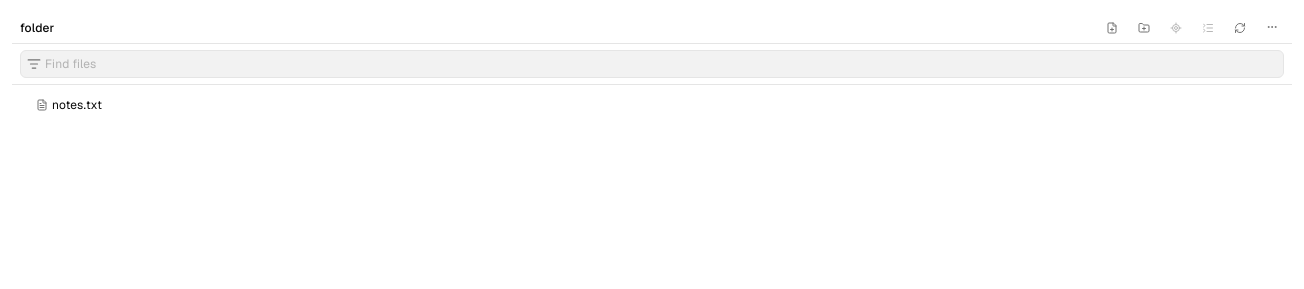
Test: duplicate row (#334) › fails closed with an inline error when the bridge lacks files.duplicate
The image size is (1304, 289).
Right-click the button "notes.txt" at (77, 105), box [12,93,1292,117]
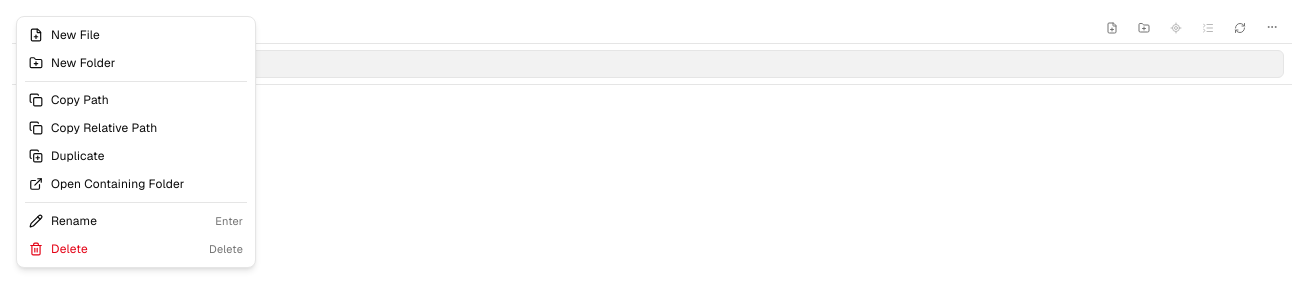
Click the menu item "Duplicate" at (136, 156), box [21,142,251,170]
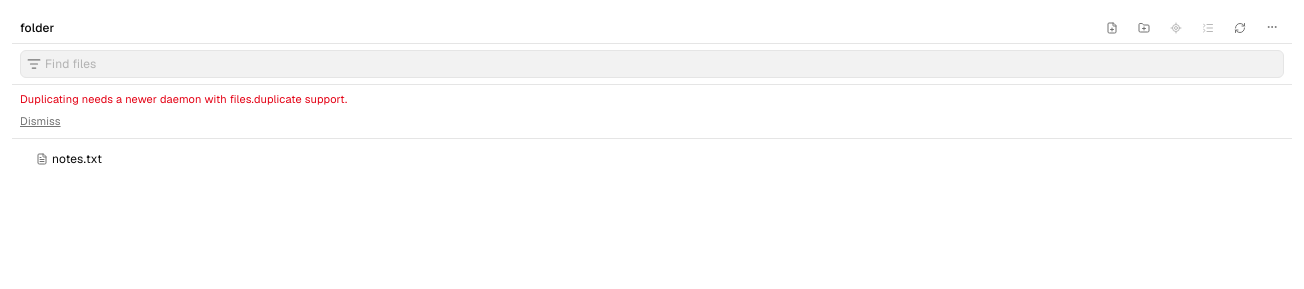
Now the message shows "files.duplicate", box [20,92,347,106]
